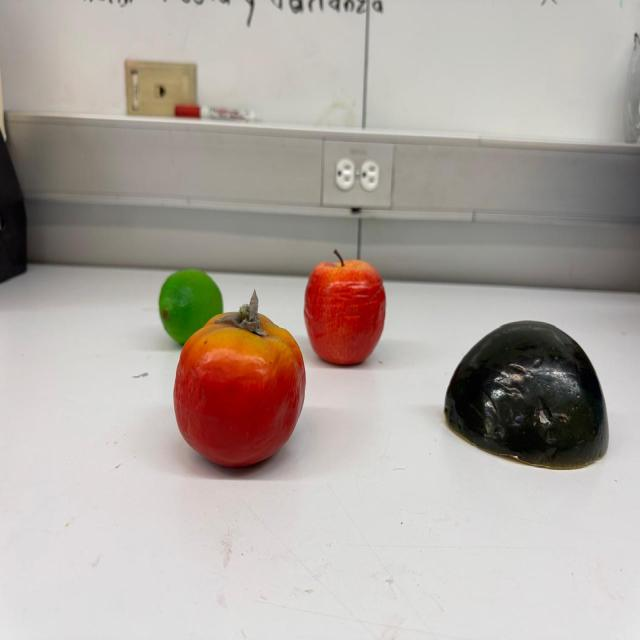apple: (304, 249, 387, 367)
lemon: (158, 268, 223, 346)
tomato: (172, 292, 306, 466)
watermelon: (442, 320, 610, 469)
